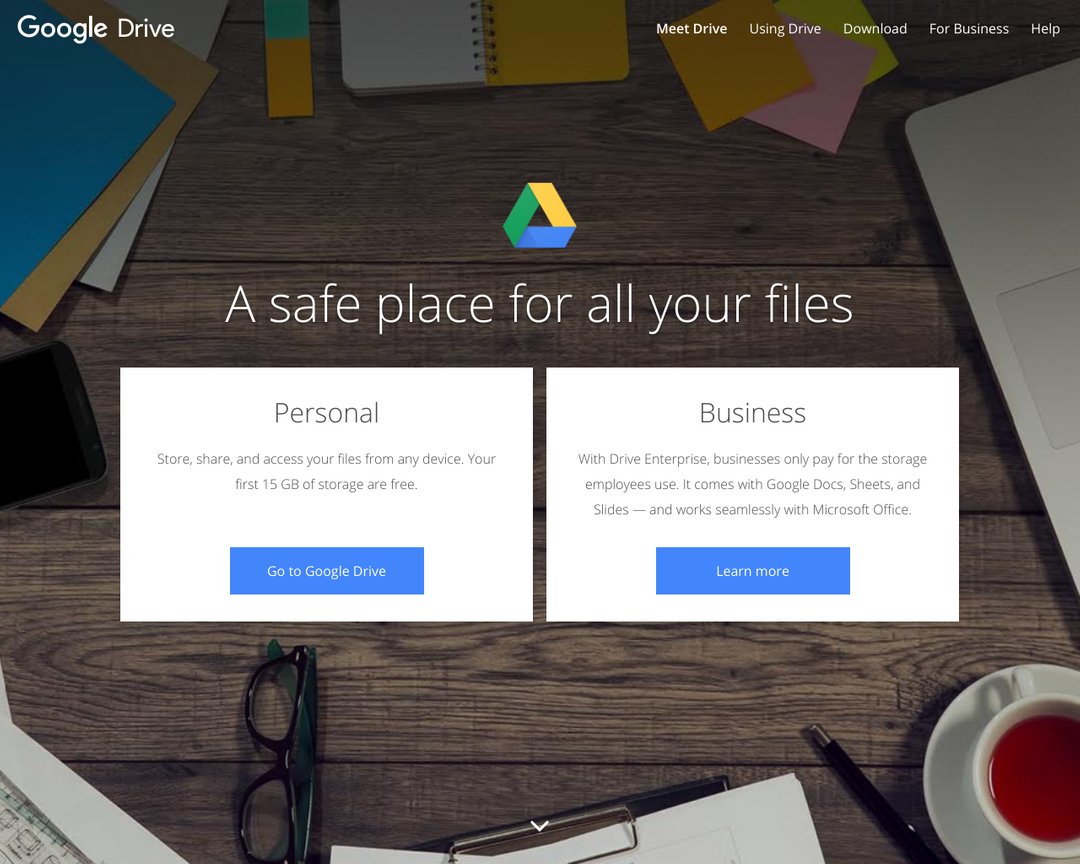Google: (15, 8, 111, 48)
